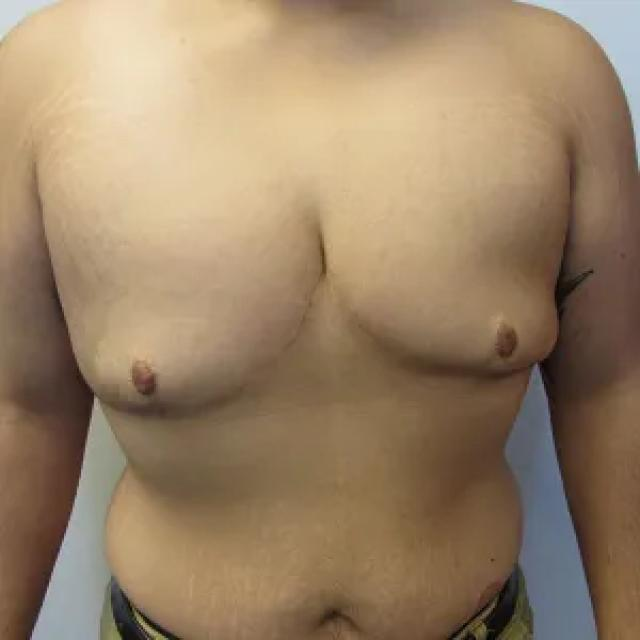Seno herido: (54, 206, 320, 428), (326, 207, 568, 428)
